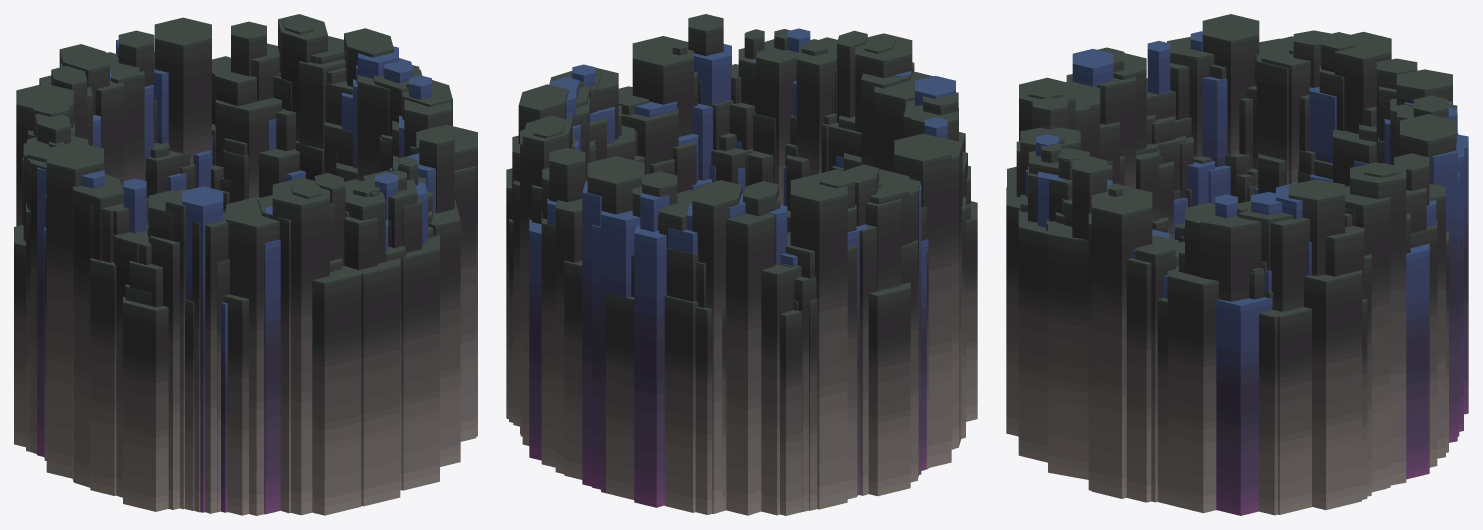
Rendered from world_32_half.gltf.
3 renders of one model, left to right at view 1: azimuth 30°, elevation 25°; view 2: azimuth 150°, elevation 25°; view 3: azimuth 270°, elevation 25°, orthographic.
Visible parts, largest first — view 1: Cylinder.6181, Cylinder.9001, Cylinder.9064, Cylinder.8226, Cylinder.5445, Cylinder.7092, Cylinder.7010, Cylinder.6185, Cylinder.5736, Cylinder.5485, Cylinder.9147, Cylinder.7459 (+63 smaller); view 2: Cylinder.5817, Cylinder.6716, Cylinder.9001, Cylinder.8568, Cylinder.7998, Cylinder.9336, Cylinder.6457, Cylinder.6455, Cylinder.8501, Cylinder.5466, Cylinder.8021, Cylinder.5458 (+68 smaller); view 3: Cylinder.7539, Cylinder.8880, Cylinder.8673, Cylinder.8396, Cylinder.9147, Cylinder.5445, Cylinder.5615, Cylinder.5943, Cylinder.5458, Cylinder.7270, Cylinder.6263, Cylinder.6284 (+68 smaller).
Part boxes in pixels (x1,y1,x2,y2): Cylinder.6181: [312, 266, 361, 515]; Cylinder.9001: [46, 141, 103, 478]; Cylinder.9064: [361, 258, 400, 506]; Cylinder.8226: [123, 296, 168, 511]; Cylinder.5445: [401, 235, 439, 490]; Cylinder.7092: [272, 177, 329, 515]; Cylinder.7010: [226, 197, 279, 515]; Cylinder.6185: [72, 174, 123, 487]; Cylinder.5736: [154, 17, 211, 168]; Cylinder.5485: [90, 258, 116, 495]; Cylinder.9147: [429, 206, 460, 466]; Cylinder.7459: [454, 166, 476, 441]; Cylinder.5817: [790, 173, 847, 509]; Cylinder.6716: [726, 213, 774, 515]; Cylinder.9001: [894, 133, 951, 467]; Cylinder.8568: [868, 282, 910, 496]; Cylinder.7998: [634, 225, 666, 507]; Cylinder.9336: [664, 295, 698, 512]; Cylinder.6457: [692, 180, 742, 513]; Cylinder.6455: [606, 293, 634, 499]; Cylinder.8501: [761, 264, 801, 515]; Cylinder.5466: [695, 305, 726, 514]; Cylinder.8021: [780, 310, 802, 515]; Cylinder.5458: [522, 115, 572, 445]; Cylinder.7539: [1091, 185, 1152, 498]; Cylinder.8880: [1304, 270, 1361, 509]; Cylinder.8673: [1167, 266, 1218, 513]; Cylinder.8396: [1216, 297, 1271, 515]; Cylinder.9147: [1048, 221, 1080, 478]; Cylinder.5445: [1018, 209, 1047, 462]; Cylinder.5615: [1262, 307, 1311, 514]; Cylinder.5943: [1126, 238, 1178, 502]; Cylinder.5458: [1350, 162, 1406, 485]; Cylinder.7270: [1406, 243, 1429, 479]; Cylinder.6263: [1345, 187, 1386, 492]; Cylinder.6284: [1200, 208, 1261, 301].
Size of what is drawn, in the model's own units: 273 by 202 by 270.
Materials: 1 (1 with a texture image).
